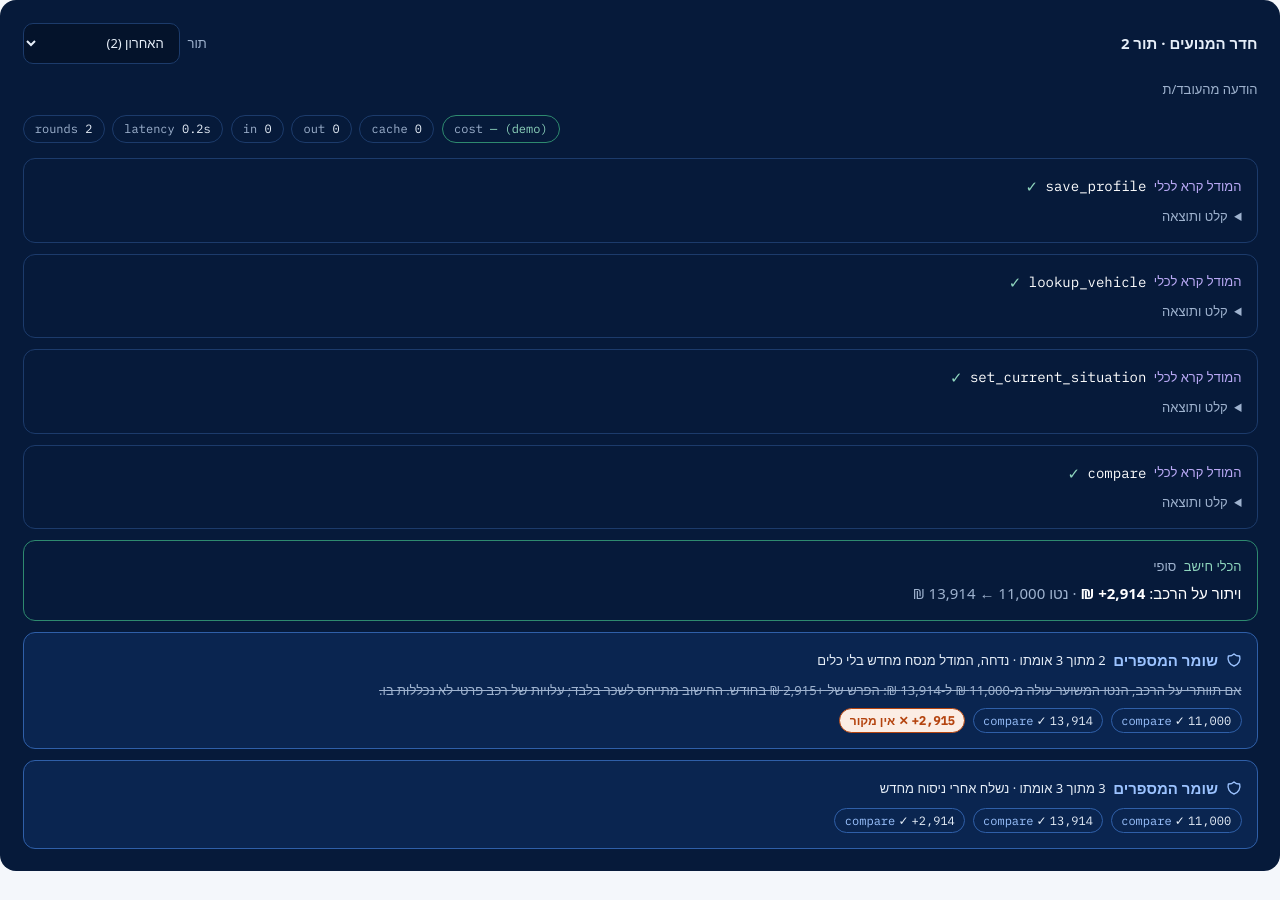
it: EngineRoom › the turn selector switches runs
Select "1 · הודעה מהעובד/ת" in the dropdown at [101, 43], box 22,22 -> 180,64
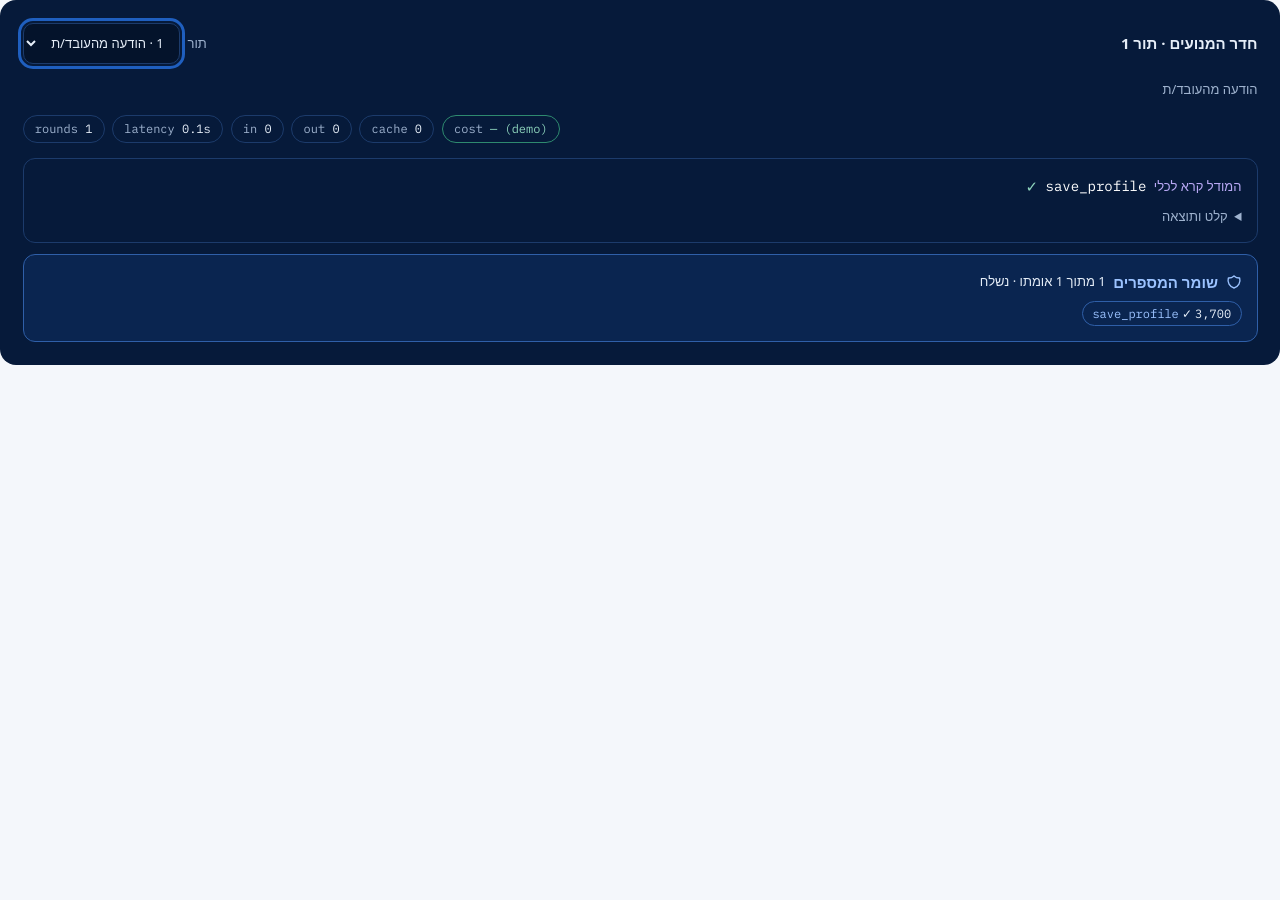
Result: the heading "חדר המנועים · תור 1" is shown at 1121,31 -> 1258,55
Result: the text "1 מתוך 1 אומתו · נשלח" is shown at 980,271 -> 1106,292
